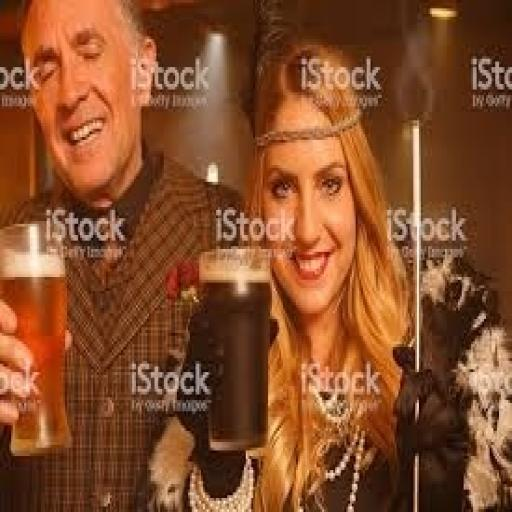drinking: (0, 218, 71, 456), (196, 244, 278, 450)
